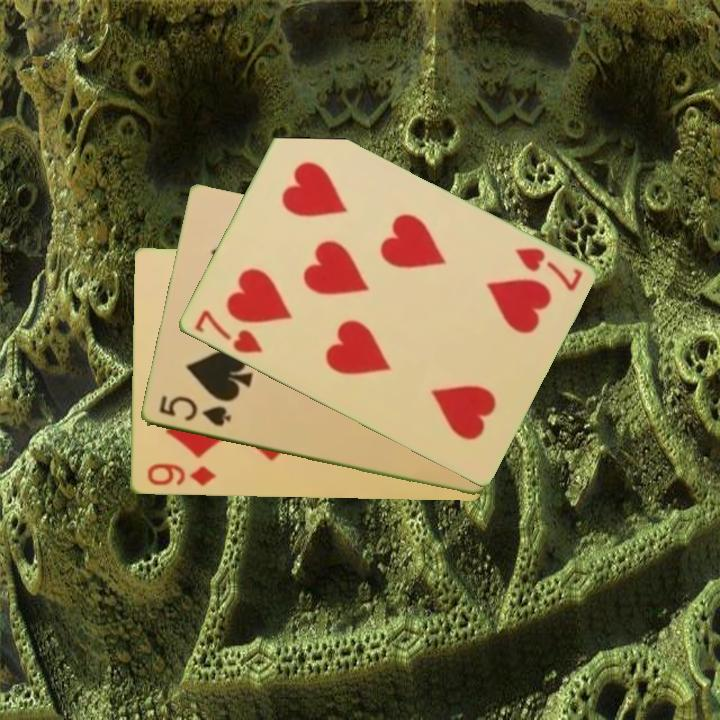5s: (155, 392, 234, 430)
7h: (190, 306, 265, 357), (510, 244, 585, 295)
9d: (143, 460, 218, 489)
